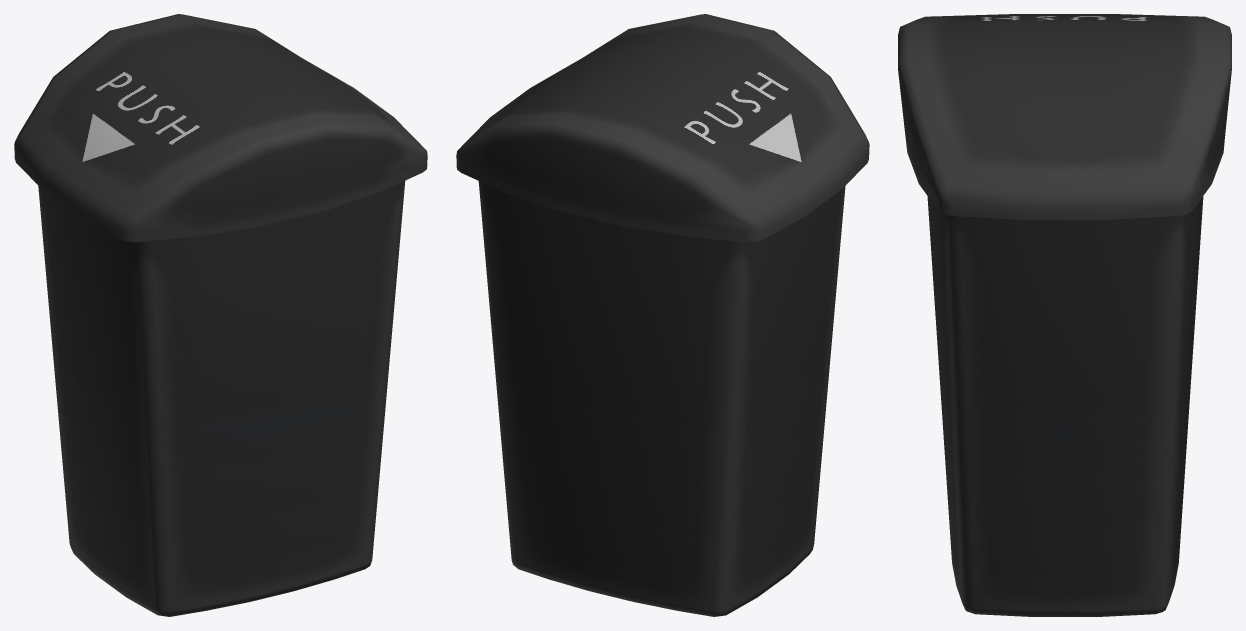
The model's file is OfficeTrashCan01__2.fbx.
3 renders of one model, left to right at view 1: azimuth 30°, elevation 25°; view 2: azimuth 150°, elevation 25°; view 3: azimuth 270°, elevation 25°, orthographic. The views are drawn at different scales.
Visible parts, largest first — view 1: OfficeTrashCan01; view 2: OfficeTrashCan01; view 3: OfficeTrashCan01.
Boxes of the visible parts, left/top/right/bottom form: OfficeTrashCan01: left=14, top=14, right=427, bottom=616; OfficeTrashCan01: left=456, top=14, right=869, bottom=616; OfficeTrashCan01: left=898, top=14, right=1231, bottom=616.
Size of the model in its own units: 0.4245 by 0.615 by 0.3583.
Materials: 1 (1 with a texture image).
